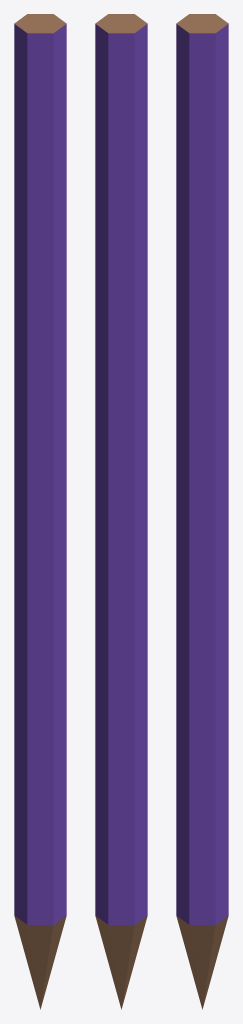
File: pen3.fbx
The picture shows the model from 3 angles, left to right: view 1: azimuth 90°, elevation 25°; view 2: azimuth 150°, elevation 25°; view 3: azimuth 270°, elevation 25°; orthographic projection.
Parts seen in each view (by area): view 1: Cylinder; view 2: Cylinder; view 3: Cylinder.
Boxes of the visible parts, <box> form: Cylinder: <box>14,14,66,1009</box>; Cylinder: <box>95,14,147,1009</box>; Cylinder: <box>176,14,228,1009</box>.
Bounding box in the file's own units: 0.0316 × 0.7555 × 0.0365.
